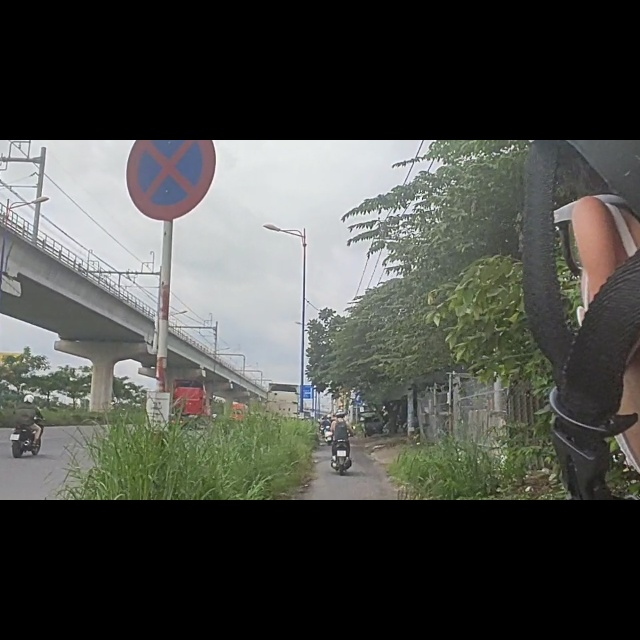bien_cam: (113, 1, 223, 147), (355, 449, 365, 469)
